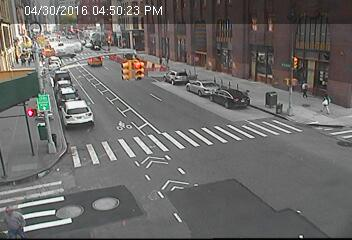neg: (65, 106, 101, 154), (299, 125, 330, 167), (152, 119, 182, 159), (62, 29, 92, 68), (193, 172, 222, 210), (31, 85, 59, 123), (171, 49, 198, 85), (122, 46, 149, 81), (213, 79, 239, 113), (91, 182, 117, 216), (245, 34, 270, 67), (266, 85, 288, 115), (56, 189, 78, 217), (285, 44, 306, 71), (255, 167, 275, 194)
pos: (4, 200, 29, 232), (296, 73, 316, 101), (318, 91, 338, 118)
